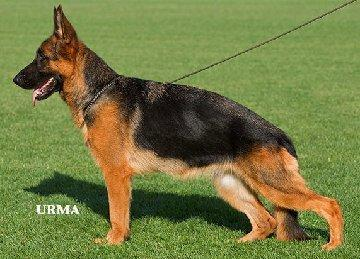German_shepherd: (11, 2, 342, 252)
